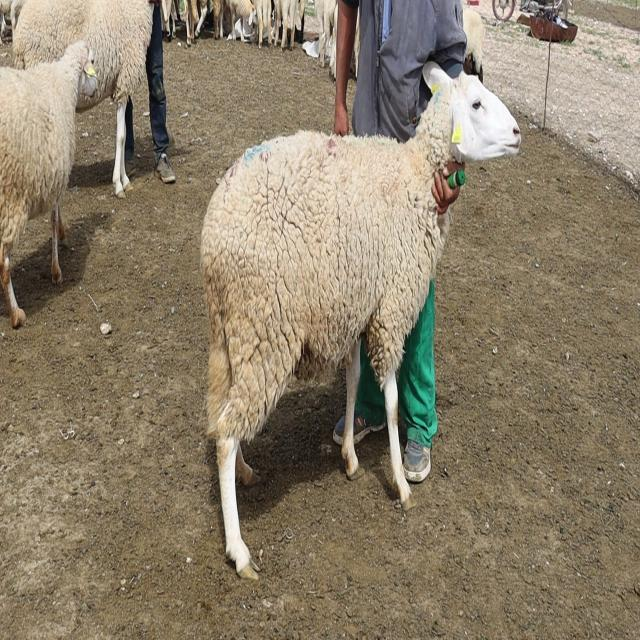Score_5: (200, 62, 521, 578)
